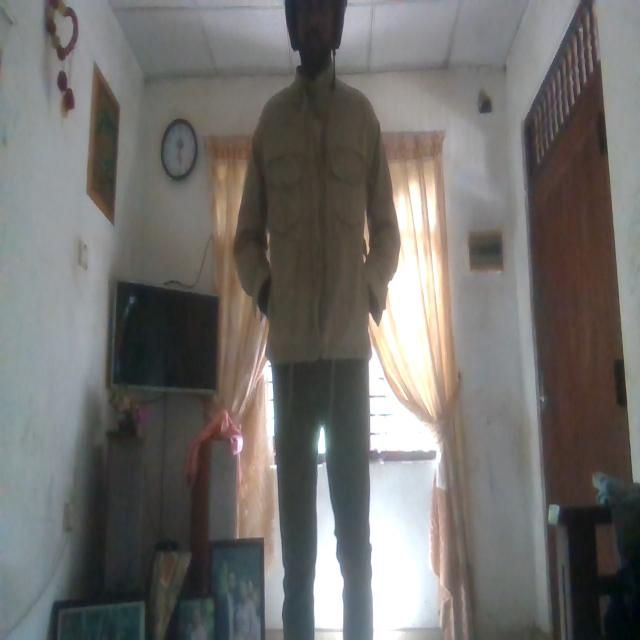Helmet_Wearer: (279, 0, 354, 78)
Jacket_Wearer: (238, 68, 400, 366)
Person: (236, 0, 402, 640)
